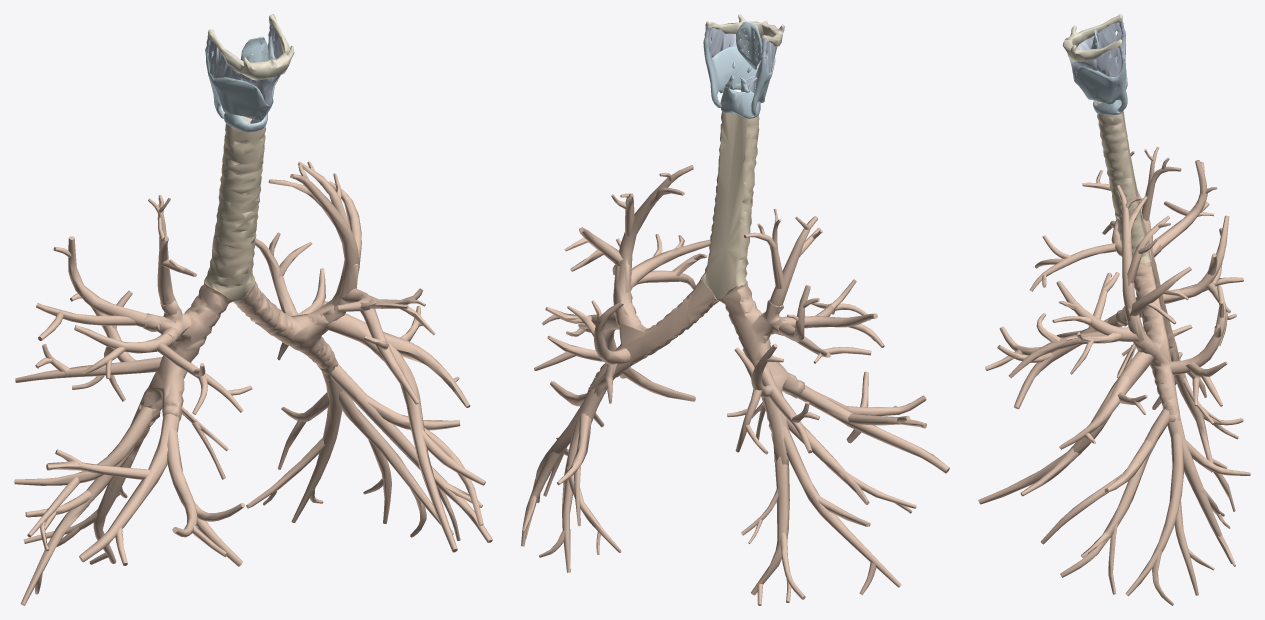
File: atem3d.glb
3 renders of one model, left to right at view 1: azimuth 30°, elevation 25°; view 2: azimuth 150°, elevation 25°; view 3: azimuth 270°, elevation 25°, orthographic. The views are drawn at different scales.
Parts seen in each view (by area): view 1: Trachea, Right main bronchus proper, Left main bronchus, Inferior lingular bronchial tree (×2), Lateral segmental bronchial tree (×2), Left lateral basal segmental bronchial tree (×2), Left posterior basal segmental bronchial tree (×2), Left medial basal segmental bronchial tree, Right posterior segmental bronchial tree (×2), Thyroid cartilage, Medial segmental bronchial tree (×2), Right anterior segmental bronchial tree (×2) (+13 smaller); view 2: Trachea, Right main bronchus proper, Left main bronchus, Lateral segmental bronchial tree (×2), Thyroid cartilage, Left posterior basal segmental bronchial tree (×2), Right lateral basal segmental bronchial tree, Left anterior segmental bronchial tree (×2), Right apical segmental bronchial tree (×2), Right superior segmental bronchial tree (×2), Right posterior basal segmental bronchial tree, Left lateral basal segmental bronchial tree (×2) (+10 smaller); view 3: Left main bronchus, Trachea, Inferior lingular bronchial tree (×2), Left lateral basal segmental bronchial tree (×2), Left posterior basal segmental bronchial tree (×2), Left anterior segmental bronchial tree (×2), Thyroid cartilage, Left apical segmental bronchial tree (×2), Left medial basal segmental bronchial tree, Left anterior basal segmental bronchial tree (×2), Right superior segmental bronchial tree (×2), Hyoid bone (+11 smaller).
Part boxes in pixels (<box>): Trachea: <box>204,116,265,302</box>; Right main bronchus proper: <box>128,281,232,460</box>; Left main bronchus: <box>234,263,358,380</box>; Inferior lingular bronchial tree (×2): <box>325,313,485,552</box>; Lateral segmental bronchial tree (×2): <box>46,406,179,562</box>; Left lateral basal segmental bronchial tree (×2): <box>339,390,453,534</box>; Left posterior basal segmental bronchial tree (×2): <box>246,361,342,522</box>; Left medial basal segmental bronchial tree: <box>329,364,492,542</box>; Right posterior segmental bronchial tree (×2): <box>36,236,159,328</box>; Thyroid cartilage: <box>205,35,280,121</box>; Medial segmental bronchial tree (×2): <box>167,427,242,566</box>; Right anterior segmental bronchial tree (×2): <box>74,325,243,412</box>; Trachea: <box>701,111,759,301</box>; Right main bronchus proper: <box>721,282,804,465</box>; Left main bronchus: <box>589,257,718,396</box>; Lateral segmental bronchial tree (×2): <box>797,381,949,473</box>; Thyroid cartilage: <box>703,41,775,116</box>; Left posterior basal segmental bronchial tree (×2): <box>557,377,606,572</box>; Right lateral basal segmental bronchial tree: <box>783,426,901,587</box>; Left anterior segmental bronchial tree (×2): <box>630,239,710,290</box>; Right apical segmental bronchial tree (×2): <box>744,216,818,318</box>; Right superior segmental bronchial tree (×2): <box>751,343,812,453</box>; Right posterior basal segmental bronchial tree: <box>751,446,789,595</box>; Left lateral basal segmental bronchial tree (×2): <box>521,402,593,546</box>; Left main bronchus: <box>1124,262,1179,421</box>; Trachea: <box>1096,101,1151,266</box>; Inferior lingular bronchial tree (×2): <box>978,351,1154,504</box>; Left lateral basal segmental bronchial tree (×2): <box>1125,433,1198,596</box>; Left posterior basal segmental bronchial tree (×2): <box>1165,406,1250,563</box>; Left anterior segmental bronchial tree (×2): <box>1008,280,1138,378</box>; Thyroid cartilage: <box>1074,33,1127,112</box>; Left apical segmental bronchial tree (×2): <box>1116,185,1169,341</box>; Left medial basal segmental bronchial tree: <box>1060,408,1169,577</box>; Left anterior basal segmental bronchial tree (×2): <box>1041,439,1152,544</box>; Right superior segmental bronchial tree (×2): <box>1162,215,1243,303</box>; Hyoid bone: <box>1062,14,1122,62</box>.
Size of the model in its own units: 0.2394 by 0.3161 by 0.1575.
